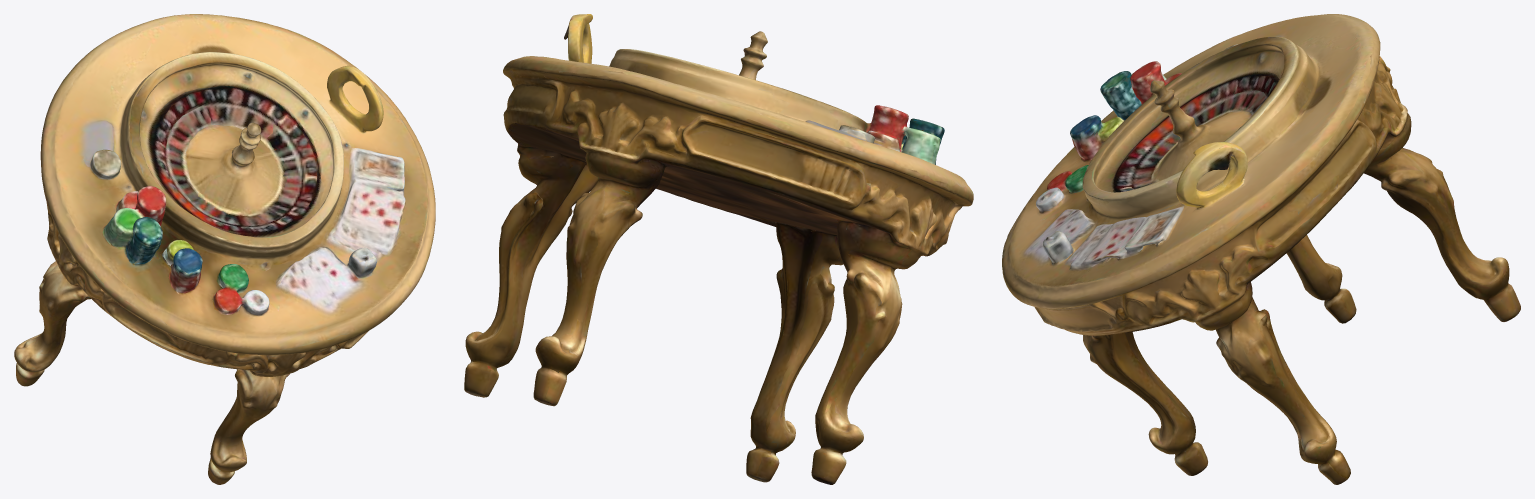
Rendered from prop_larry.glb.
3 renders of one model, left to right at view 1: azimuth 30°, elevation 25°; view 2: azimuth 150°, elevation 25°; view 3: azimuth 270°, elevation 25°, orthographic. The views are drawn at different scales.
Bounding box in the file's own units: 0.8253 × 0.8777 × 0.9398.
1 material, 1 textured.
